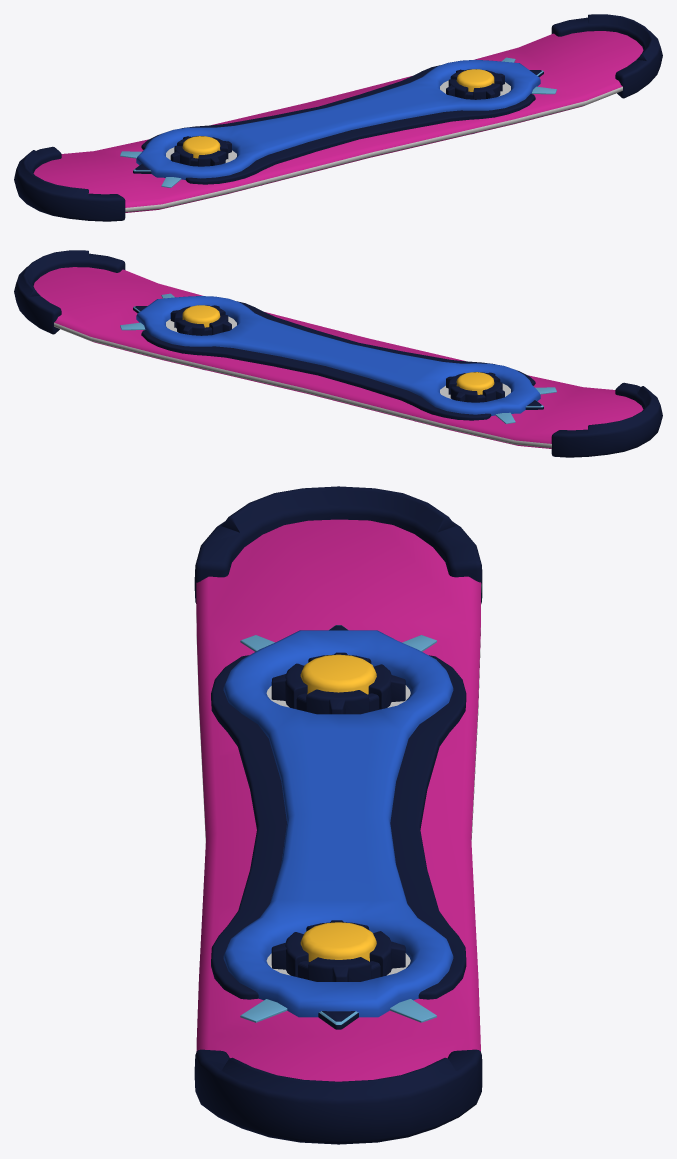
File: hoverboard.fbx
3 renders of one model, top to bottom at view 1: azimuth 30°, elevation 25°; view 2: azimuth 150°, elevation 25°; view 3: azimuth 270°, elevation 25°, orthographic. The views are drawn at different scales.
Parts seen in each view (by area): view 1: Plane.002; view 2: Plane.002; view 3: Plane.002.
Boxes of the visible parts, <box> form: Plane.002: <box>14,14,662,221</box>; Plane.002: <box>14,250,662,457</box>; Plane.002: <box>194,486,482,1144</box>.
Size of the model in its own units: 268 by 53.03 by 19.23.
